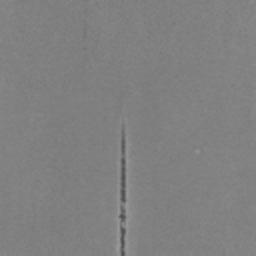Slag inclusion: (121, 137, 126, 203), (121, 227, 126, 256), (119, 207, 126, 222)
